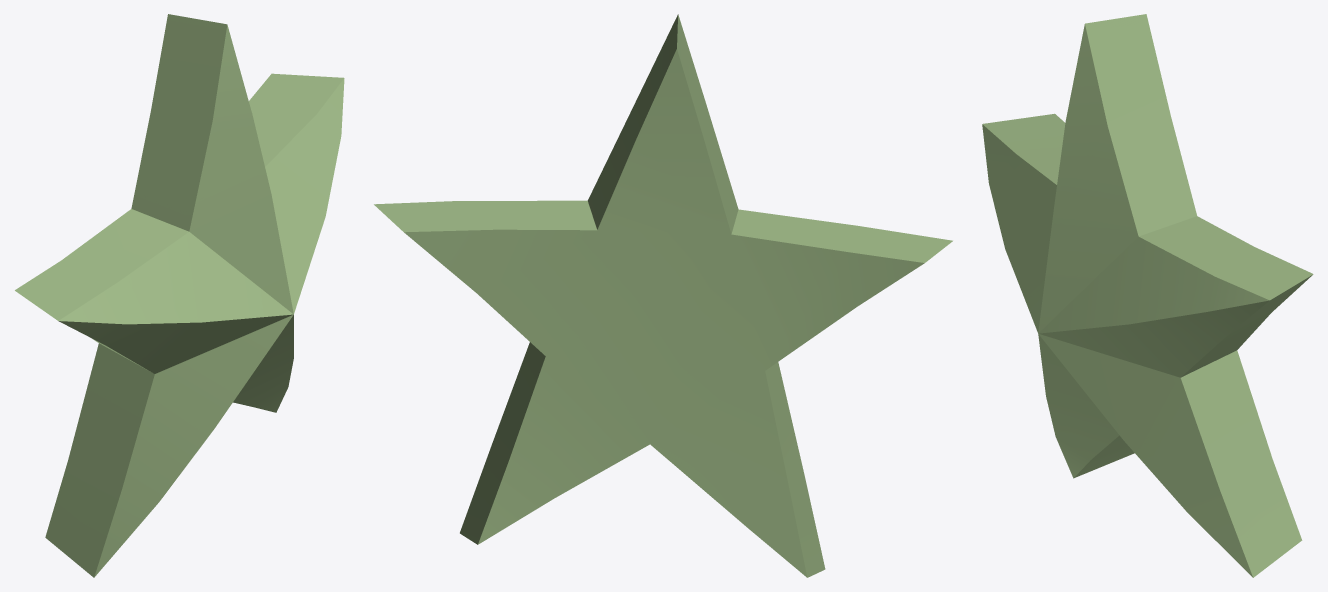
The model's file is TR2_Frame_Star.001 2.glb.
The picture shows the model from 3 angles, left to right: view 1: azimuth 30°, elevation 25°; view 2: azimuth 150°, elevation 25°; view 3: azimuth 270°, elevation 25°; orthographic projection.
Parts seen in each view (by area): view 1: TR2_Frame_Star.001; view 2: TR2_Frame_Star.001; view 3: TR2_Frame_Star.001.
Part boxes in pixels (x1=…): TR2_Frame_Star.001: x1=15, y1=14, x2=344, y2=577; TR2_Frame_Star.001: x1=374, y1=14, x2=952, y2=577; TR2_Frame_Star.001: x1=982, y1=14, x2=1313, y2=577.
Bounding box in the file's own units: 0.4546 × 0.514 × 0.2949.
